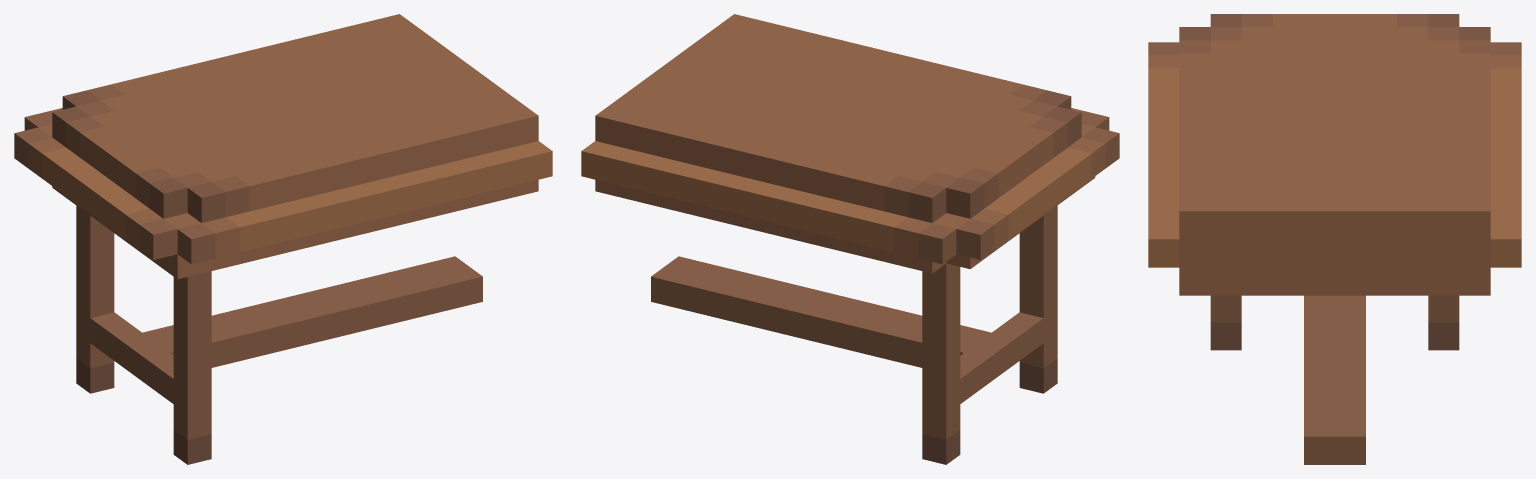
Rendered from Interior_Furniture_Table_Piece_Long_Type03_01.obj.
3 views of the same model, side by side, from view 1: azimuth 30°, elevation 25°; view 2: azimuth 150°, elevation 25°; view 3: azimuth 270°, elevation 25° (orthographic). The views are drawn at different scales.
Size of the model in its own units: 1.6 by 1.1 by 1.2.
1 material, 1 textured.
